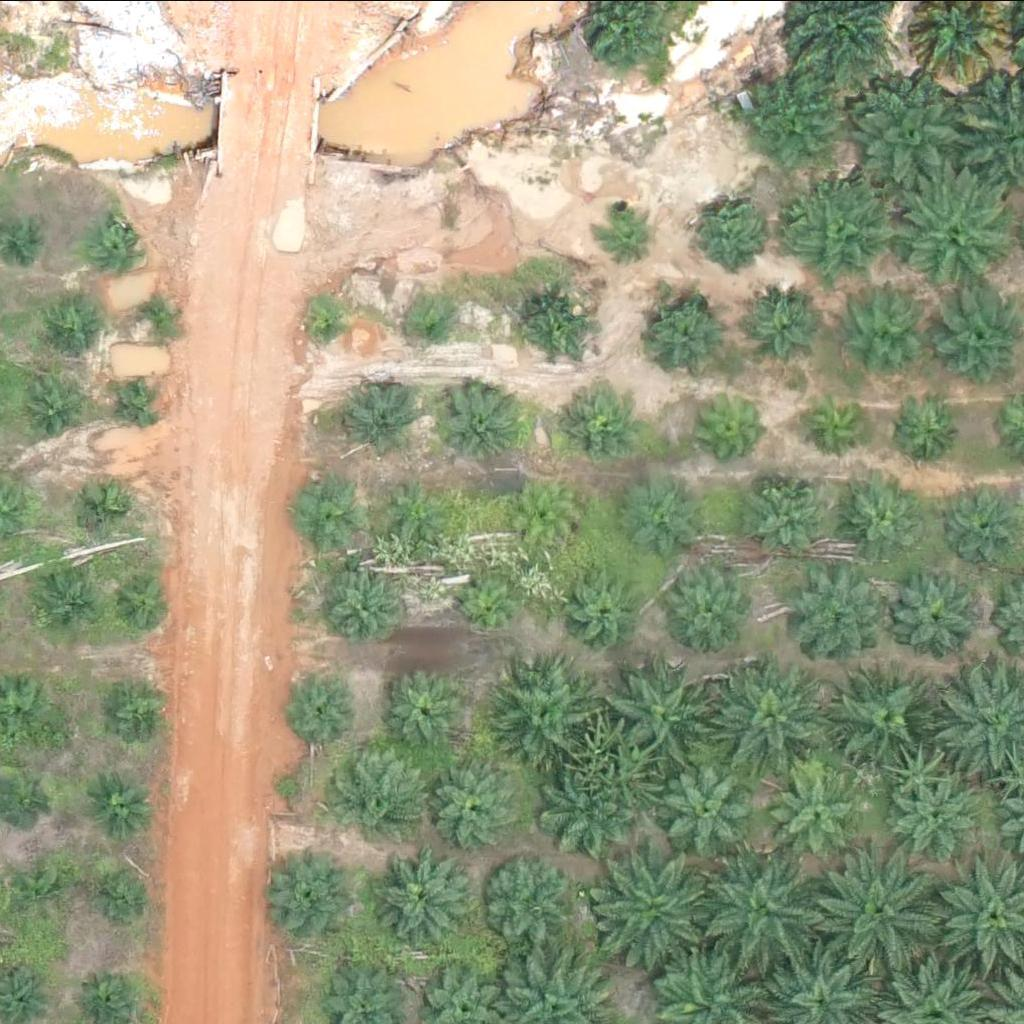Kelapa_Sawit: (888, 169, 1014, 294), (704, 839, 830, 964), (816, 847, 942, 972), (599, 843, 724, 968), (853, 77, 978, 202), (720, 656, 833, 769), (736, 65, 850, 177), (788, 175, 901, 287), (619, 660, 720, 760), (831, 669, 932, 769), (844, 288, 944, 388), (496, 666, 596, 766), (332, 744, 432, 844), (365, 849, 465, 949), (649, 286, 737, 374), (842, 474, 930, 562), (799, 568, 887, 656), (888, 571, 976, 659), (666, 761, 754, 849), (482, 855, 570, 943), (266, 847, 354, 935), (668, 563, 757, 650), (432, 759, 521, 846), (746, 283, 834, 370), (934, 292, 1022, 379), (750, 476, 838, 563), (887, 775, 975, 862), (772, 770, 860, 857), (539, 771, 627, 858), (321, 560, 409, 647), (378, 665, 466, 752), (343, 382, 419, 457), (288, 672, 364, 747), (524, 291, 600, 366), (888, 393, 964, 468), (800, 387, 876, 462), (687, 189, 763, 264), (440, 382, 516, 457), (567, 574, 642, 649), (631, 477, 706, 552), (558, 390, 633, 465), (691, 384, 766, 459), (90, 776, 153, 839), (95, 682, 158, 745), (112, 570, 175, 633), (293, 481, 356, 544), (39, 290, 102, 353), (24, 376, 87, 439), (515, 485, 578, 548), (34, 567, 97, 629), (8, 855, 71, 917), (389, 476, 452, 538), (74, 476, 137, 538), (596, 197, 659, 259), (90, 860, 152, 922), (455, 577, 517, 639), (109, 376, 160, 426), (130, 290, 181, 340), (96, 219, 146, 269), (304, 297, 354, 347), (411, 301, 461, 351)
